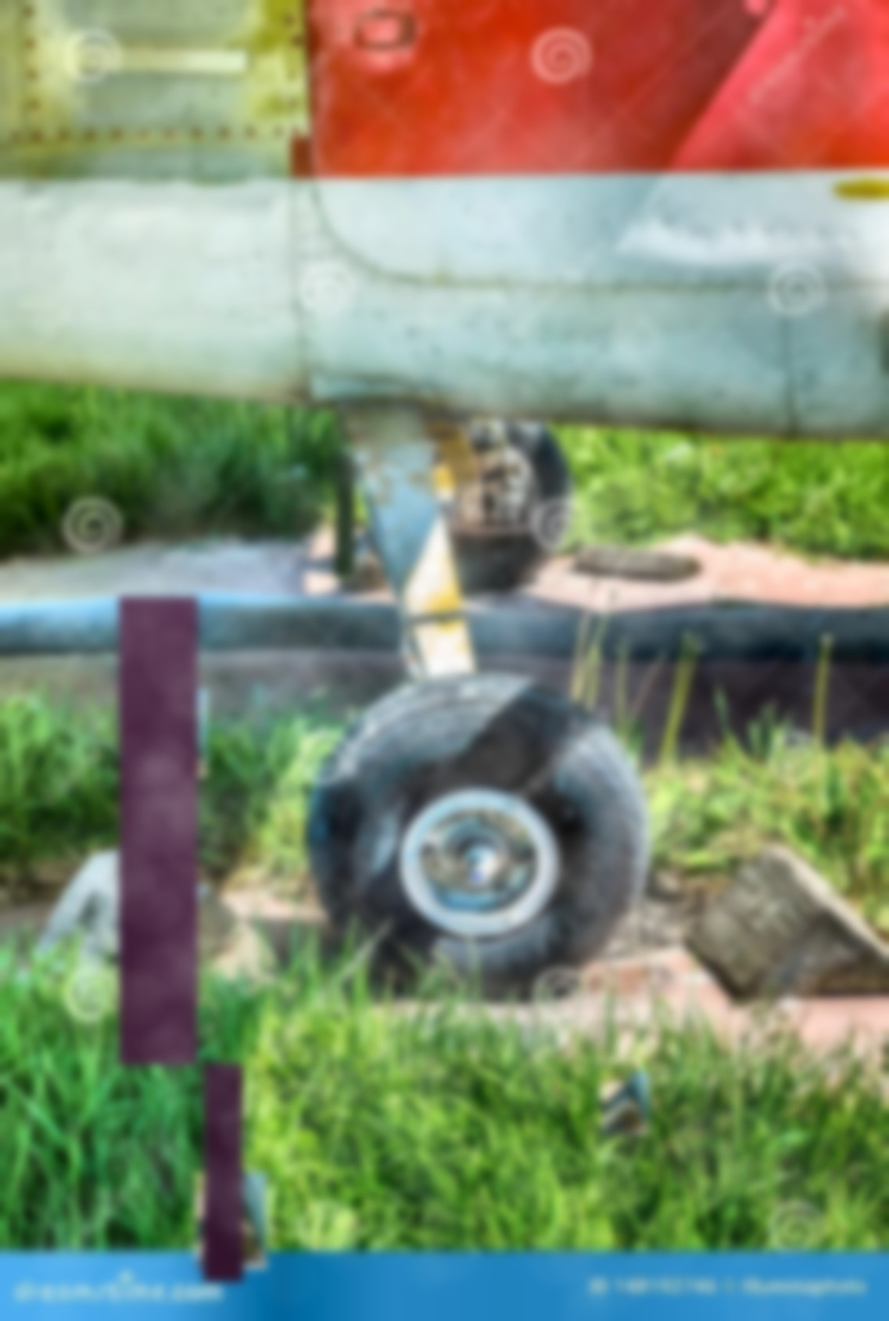chock: (23, 831, 276, 1016), (682, 831, 889, 1012), (195, 1172, 267, 1269), (142, 689, 207, 777), (334, 516, 393, 596), (602, 1072, 648, 1134)
wheel: (303, 675, 646, 993), (444, 419, 570, 587)
